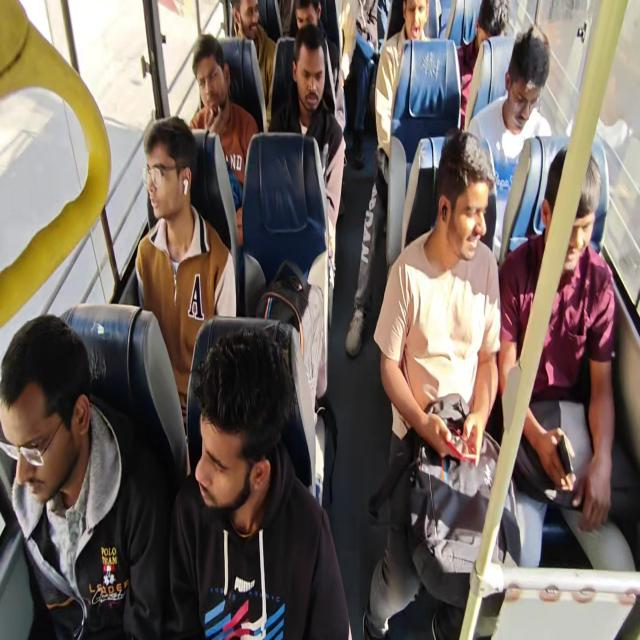person: (2, 1, 637, 638), (362, 128, 517, 638), (498, 144, 637, 574), (165, 326, 352, 638), (0, 313, 168, 638), (134, 115, 237, 433), (345, 0, 432, 357), (267, 24, 346, 324), (466, 24, 552, 257), (188, 33, 259, 246), (291, 1, 347, 133), (456, 0, 508, 130), (231, 0, 277, 121)
